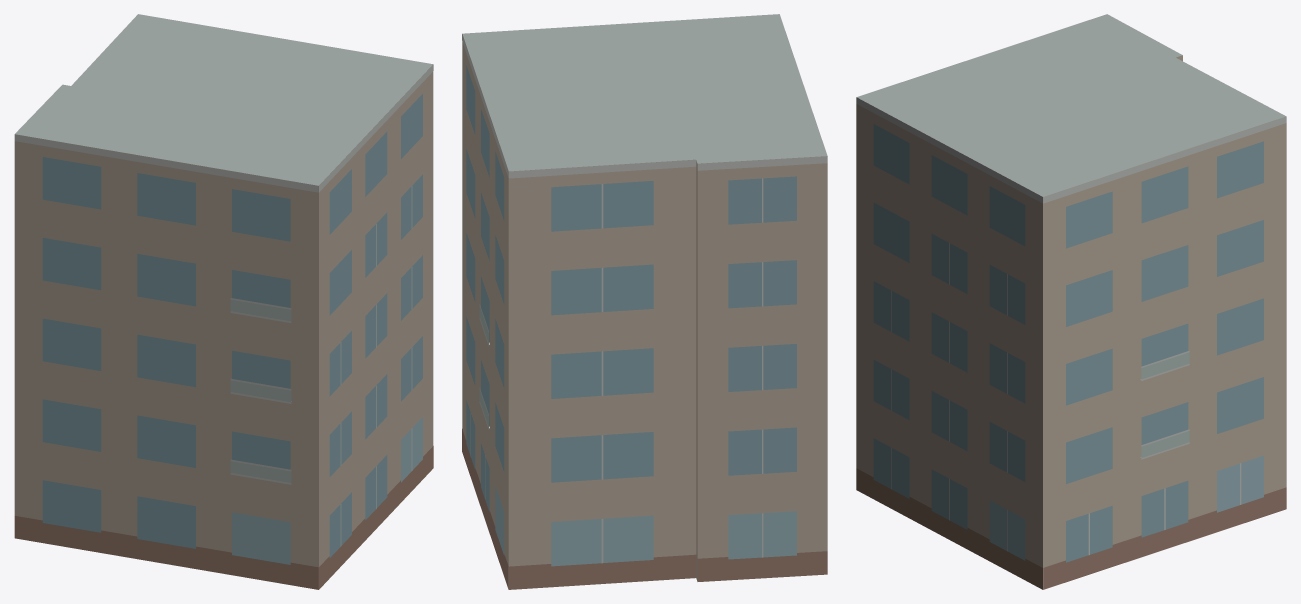
File: survey-upis-32983572.glb
3 renders of one model, left to right at view 1: azimuth 30°, elevation 25°; view 2: azimuth 150°, elevation 25°; view 3: azimuth 270°, elevation 25°, orthographic. The views are drawn at different scales.
Parts seen in each view (by area): view 1: survey-upis-32983572.tmp; view 2: survey-upis-32983572.tmp; view 3: survey-upis-32983572.tmp.
Boxes of the visible parts, box(x1,y1,x2,y2) form: survey-upis-32983572.tmp: box(14, 14, 433, 589); survey-upis-32983572.tmp: box(462, 14, 827, 589); survey-upis-32983572.tmp: box(856, 14, 1286, 589).
Size of the model in its own units: 14.4 by 14.4 by 14.3.
